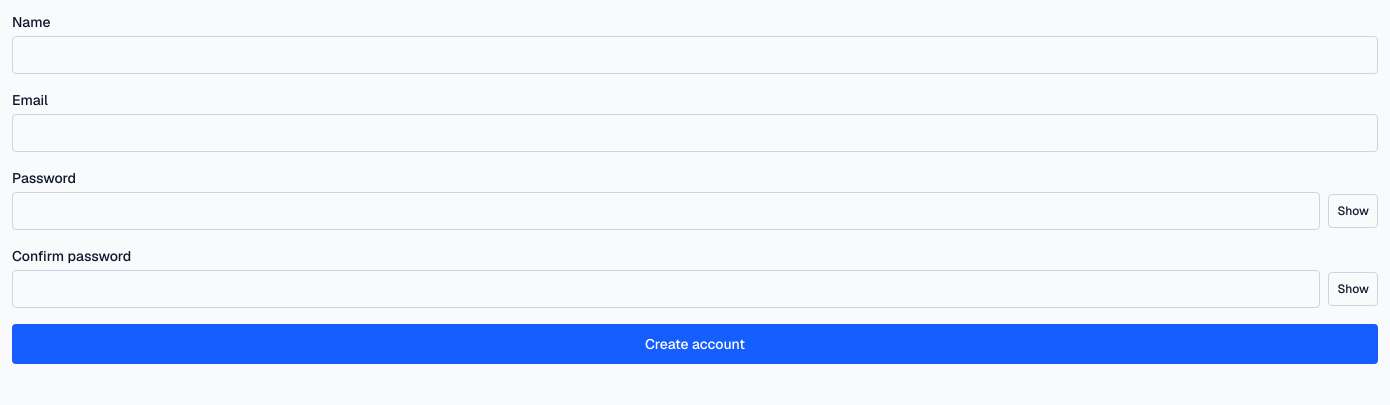
Test case: RegisterForm › shows a specific 'Passwords don't match' error and does not submit
Type "Pat Patient" into the field labelled "Name" at (695, 55), box x1=12 y1=36 x2=1378 y2=74
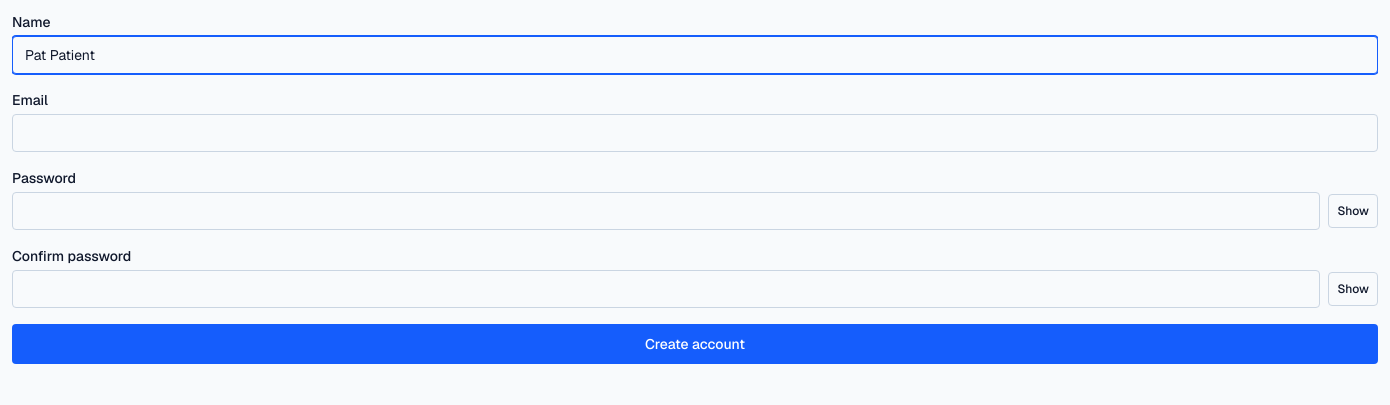
Type "pat@example.com" into the field labelled "Email" at (695, 133), box x1=12 y1=114 x2=1378 y2=152
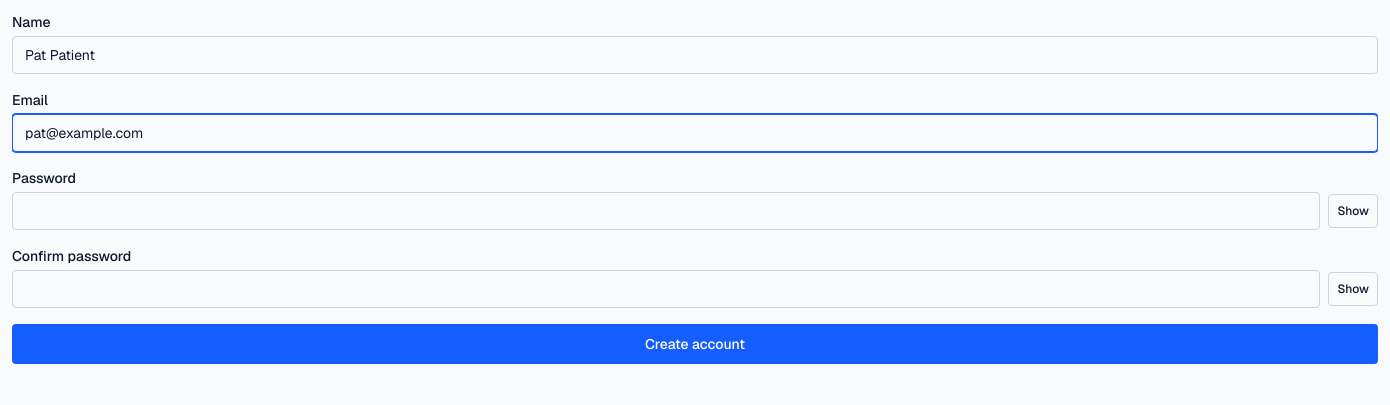
Type "longenough1" into the password field labelled "Password" at (666, 211), box x1=12 y1=192 x2=1320 y2=230
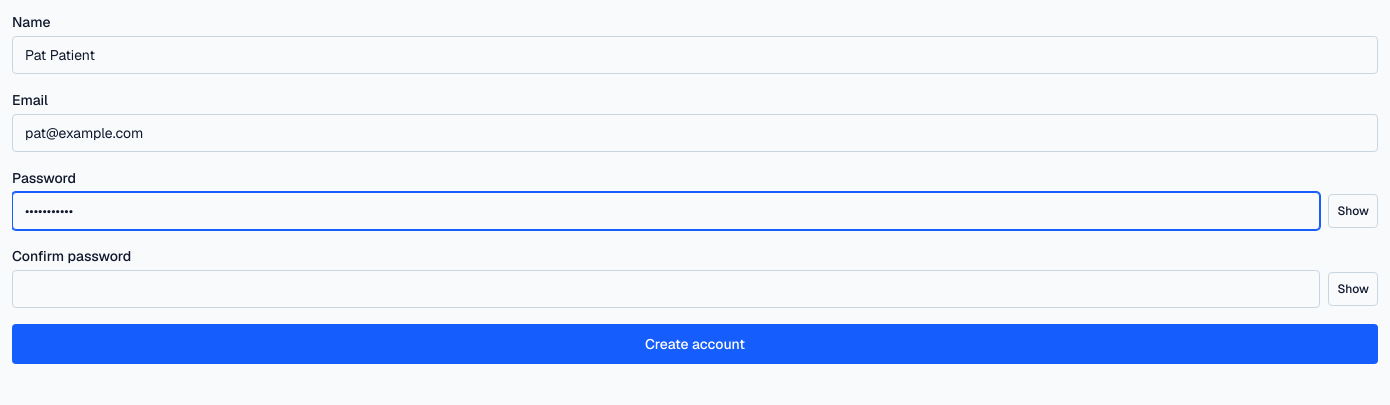
Type "different1" into the password field labelled "Confirm password" at (666, 289), box x1=12 y1=270 x2=1320 y2=308
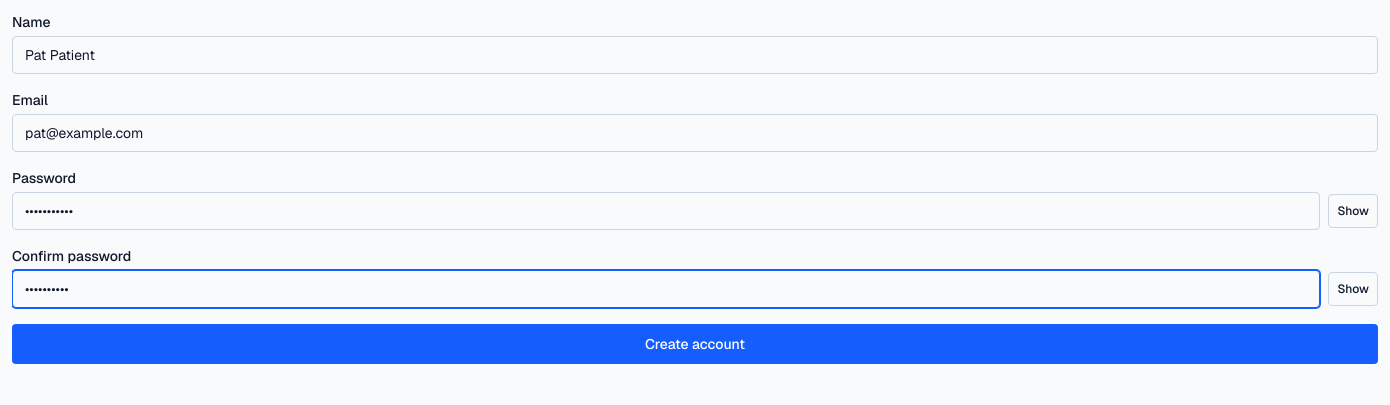
Click the button "Create account" at (695, 344), box x1=12 y1=324 x2=1378 y2=364
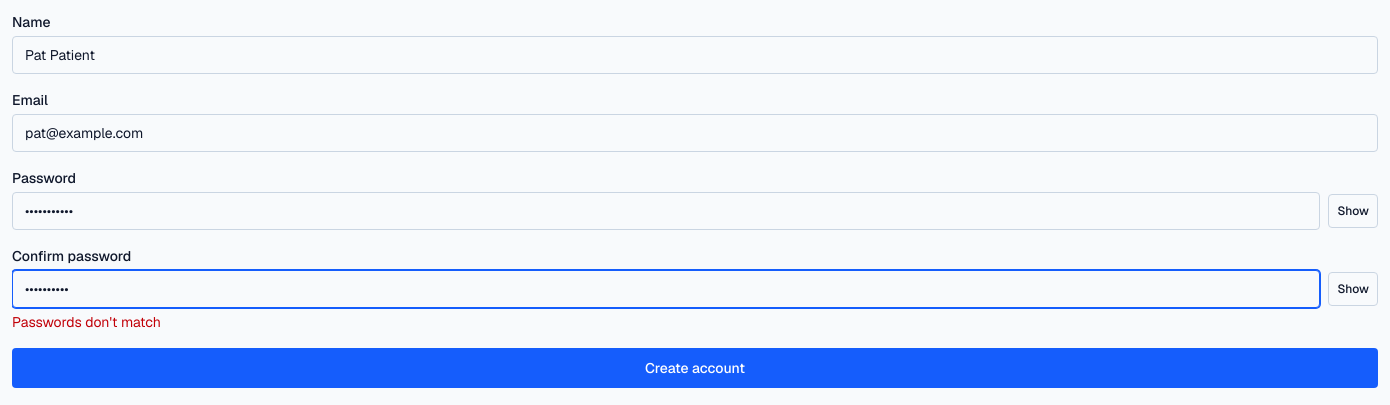
Now the text "Passwords don't match" is shown, box x1=12 y1=313 x2=161 y2=331
